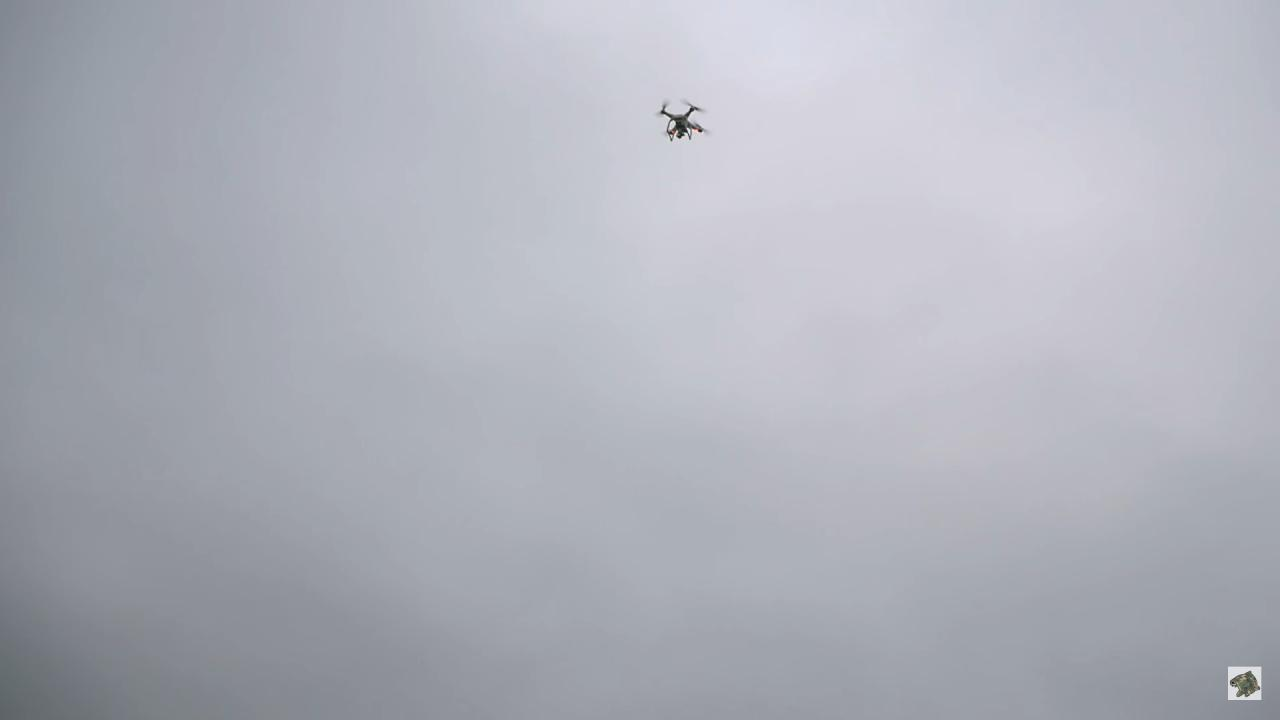Drone: (647, 92, 718, 153)
